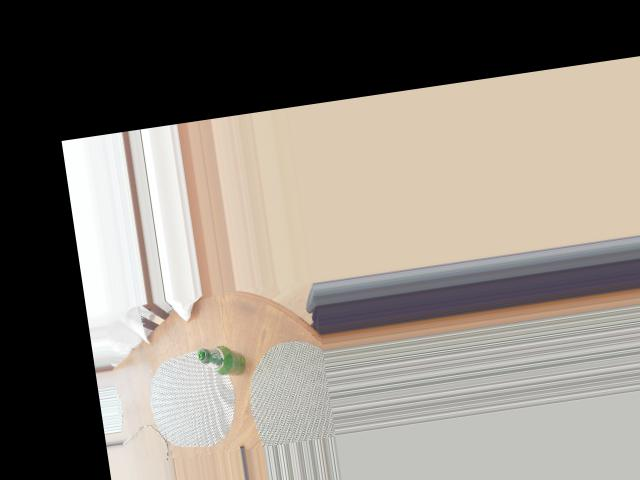beer: (197, 342, 247, 379)
